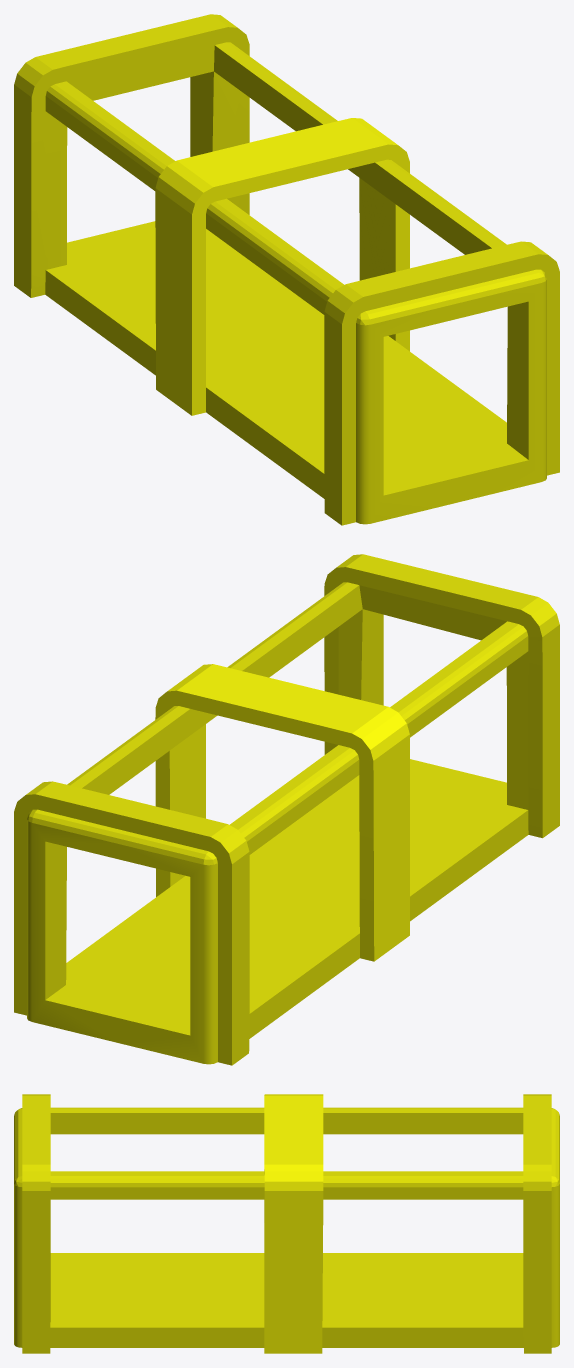
The picture shows the model from 3 angles, top to bottom: view 1: azimuth 30°, elevation 25°; view 2: azimuth 150°, elevation 25°; view 3: azimuth 270°, elevation 25°; orthographic projection. The views are drawn at different scales.
Visible parts, largest first — view 1: separated_01; view 2: separated_01; view 3: separated_01.
Boxes of the visible parts, left/top/right/bottom form: separated_01: left=14, top=14, right=559, bottom=525; separated_01: left=14, top=554, right=559, bottom=1065; separated_01: left=14, top=1094, right=559, bottom=1353.
Bounding box in the file's own units: 1.55 × 1.52 × 4.16.
Materials: 2 (2 with a texture image).
